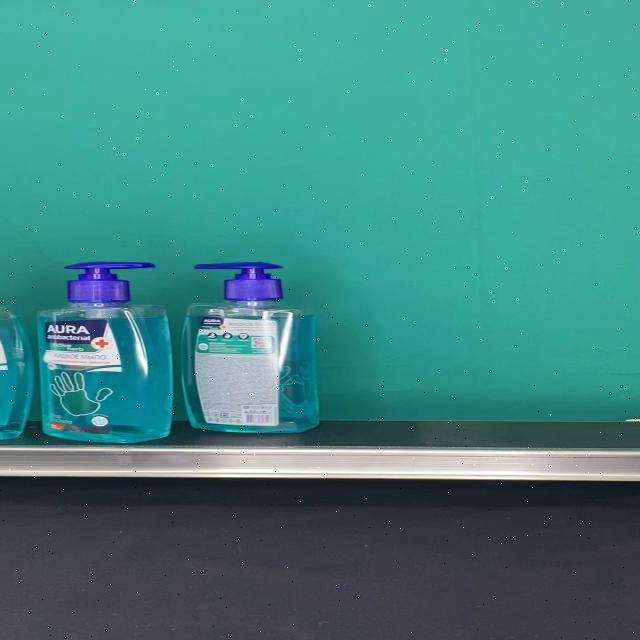Bottle: (37, 262, 174, 442), (178, 263, 319, 433)
Cap: (189, 262, 282, 302), (65, 262, 156, 302)
